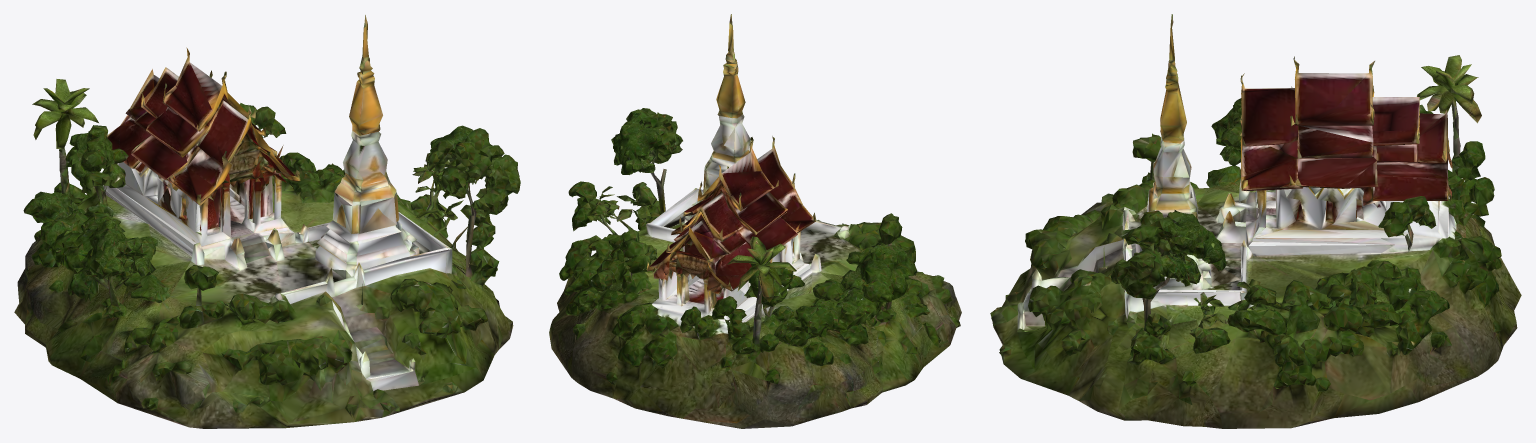
Rendered from temple.glb.
The picture shows the model from 3 angles, left to right: view 1: azimuth 30°, elevation 25°; view 2: azimuth 150°, elevation 25°; view 3: azimuth 270°, elevation 25°; orthographic projection. The views are drawn at different scales.
Visible parts, largest first — view 1: Mesh_0; view 2: Mesh_0; view 3: Mesh_0.
Part boxes in pixels (box(x1,y1,x2,y2)): Mesh_0: box(14, 15, 520, 428); Mesh_0: box(549, 14, 961, 428); Mesh_0: box(990, 14, 1521, 428).
Bounding box in the file's own units: 0.9258 × 0.7116 × 1.
1 material, 1 textured.
